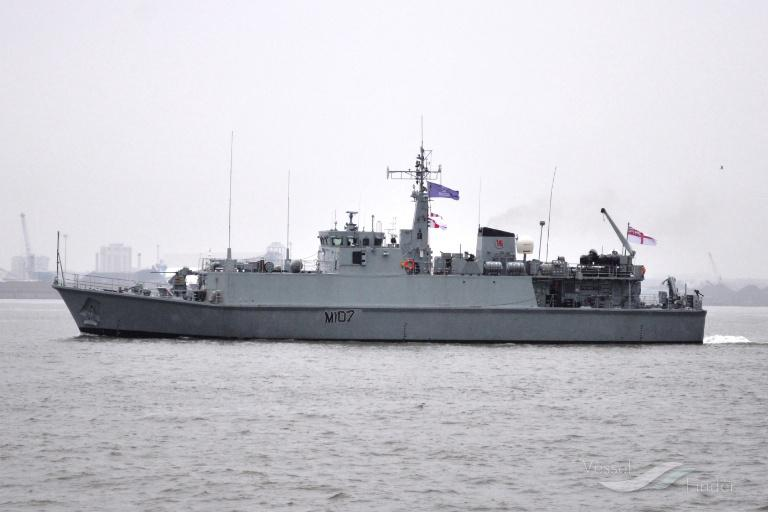OCR: (318, 310, 362, 332)
